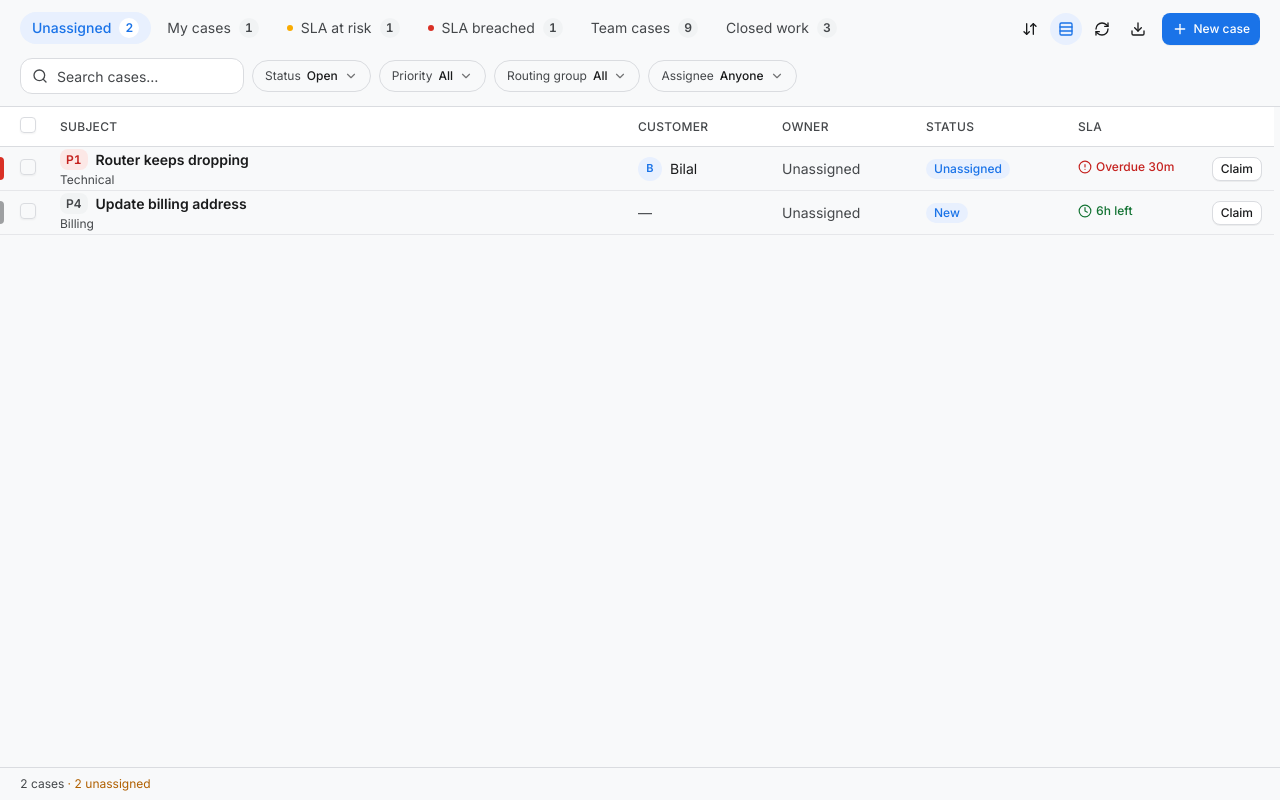
Scenario: case Workbench › opens on the unassigned pool and shows team health in the routing group filter
Check: the text "Router keeps dropping" is shown, box x1=96 y1=150 x2=249 y2=170
Check: the text "Update billing address" is shown, box x1=96 y1=194 x2=247 y2=214
Click the button "Routing group All" at (567, 76), box x1=494 y1=60 x2=640 y2=92
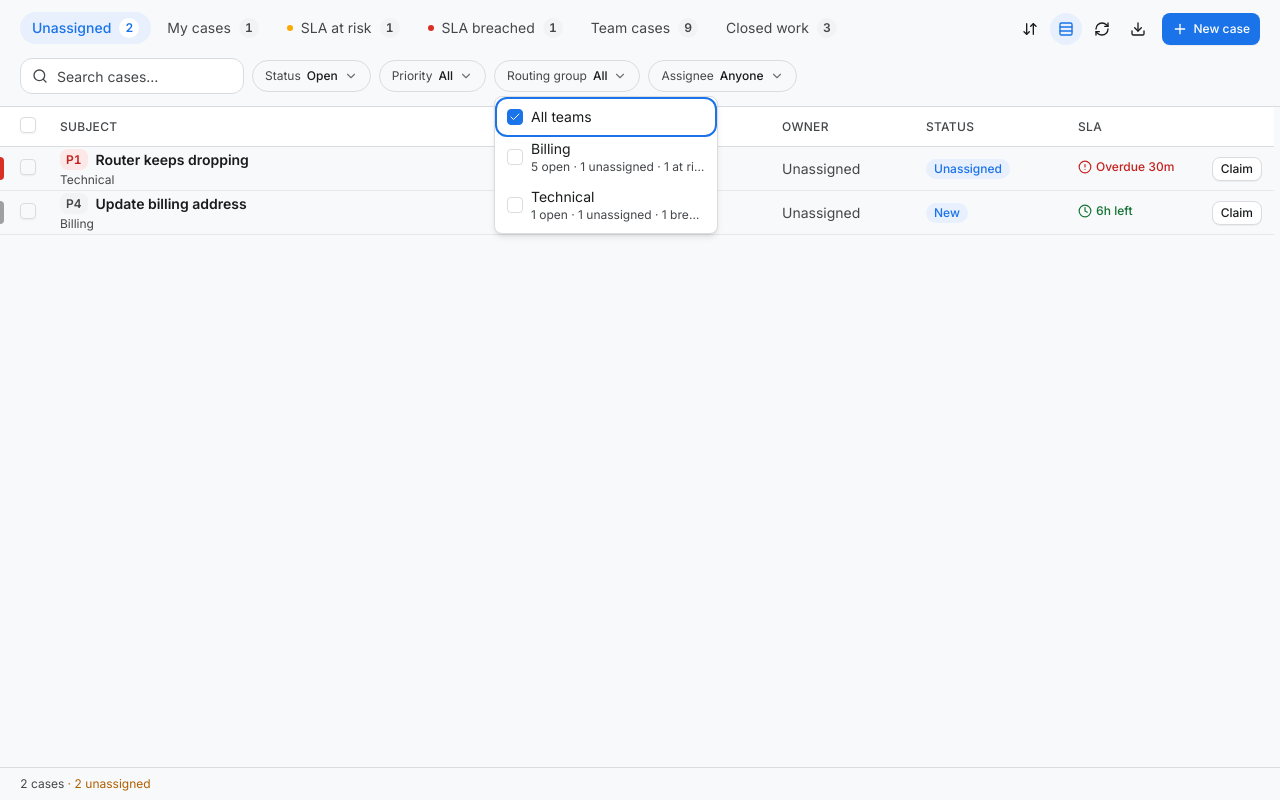
Check: the option "Technical 1 open · 1 unassigned · 1 breached" is shown, box x1=499 y1=181 x2=713 y2=229
